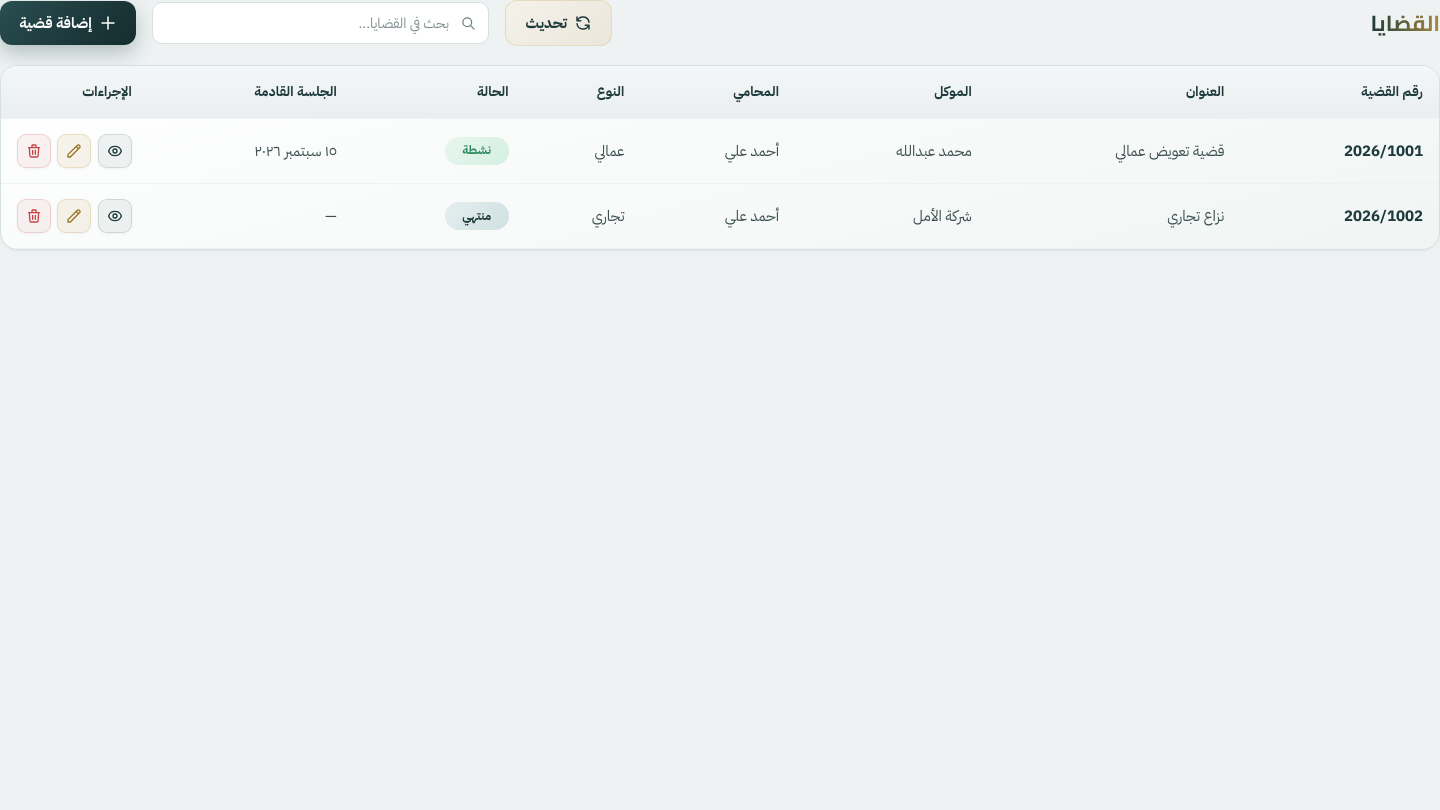
Scenario: CasesPage Feature Tests › opens case details modal and views tabs
The image size is (1440, 810).
Click the button named "عرض قضية تعويض عمالي" at (115, 151), box [98,134,132,168]
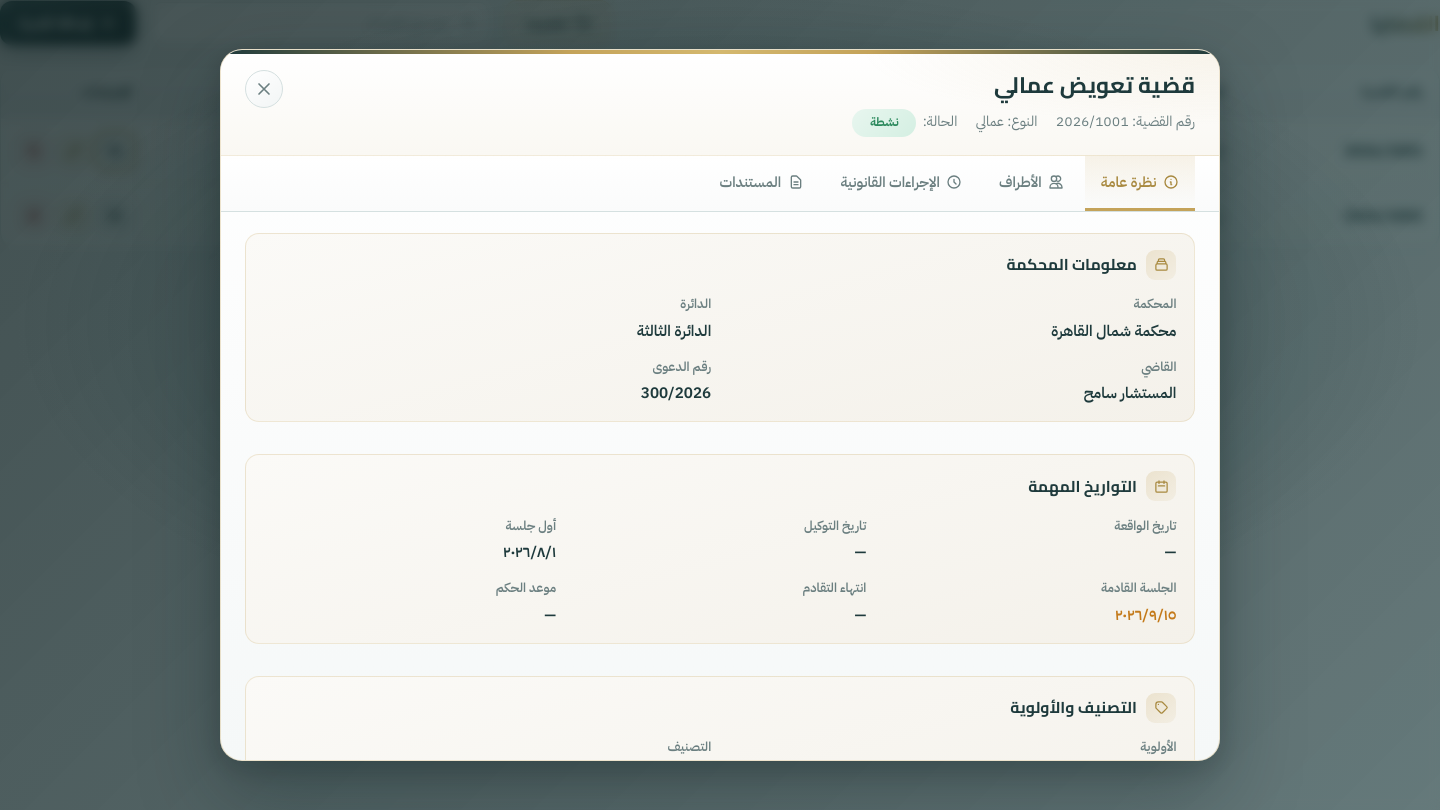
Now the heading "معلومات المحكمة" is shown, box [1006,254,1137,275]
Now the text "محكمة شمال القاهرة" is shown, box [1051,320,1176,342]
Click the tab "الأطراف" at (1032, 184), box [983,156,1080,211]
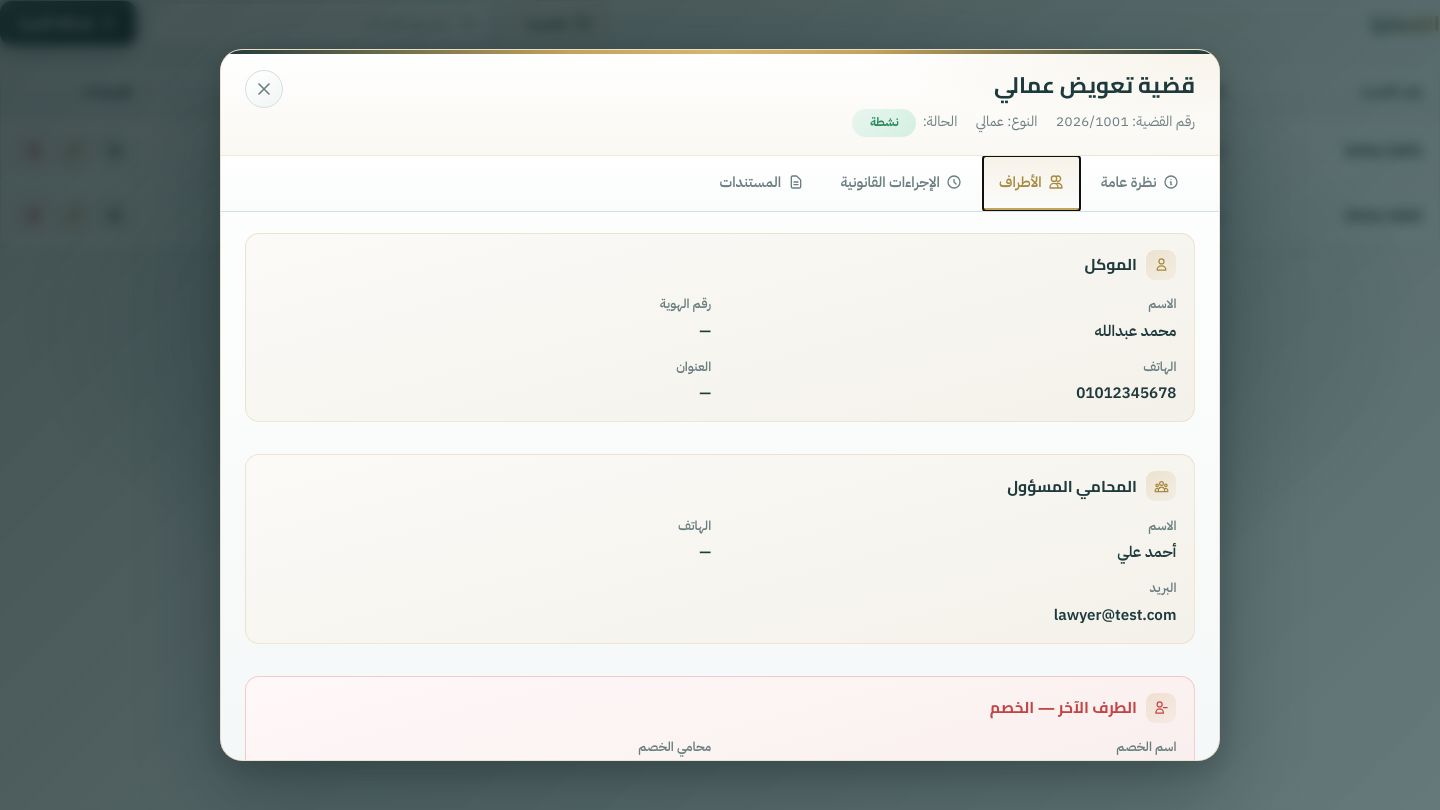
Now the heading "الطرف الآخر — الخصم" is shown, box [990,697,1137,718]
Click the tab "المستندات" at (762, 184), box [704,156,820,211]
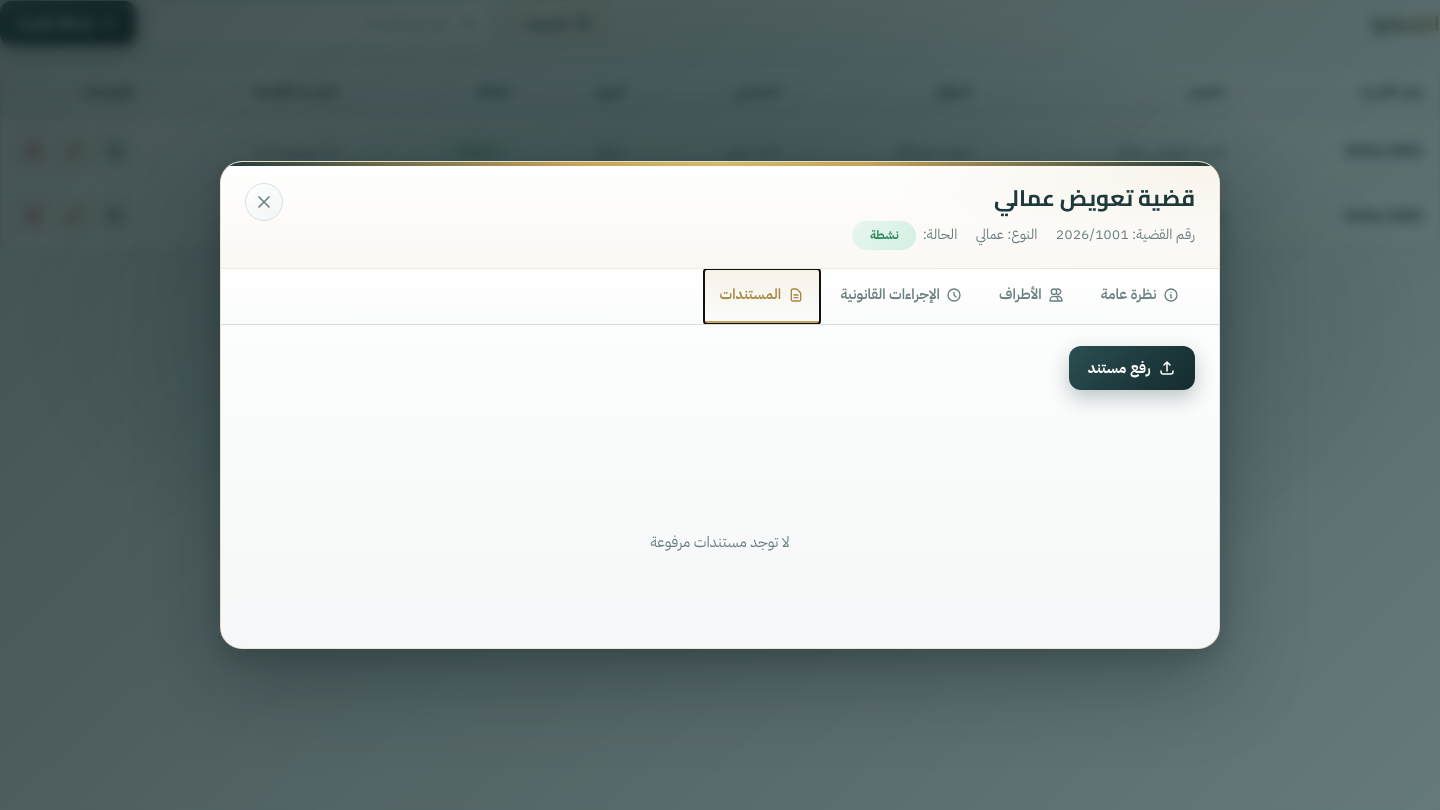
Now the text "لا توجد مستندات مرفوعة" is shown, box [650,530,790,554]
